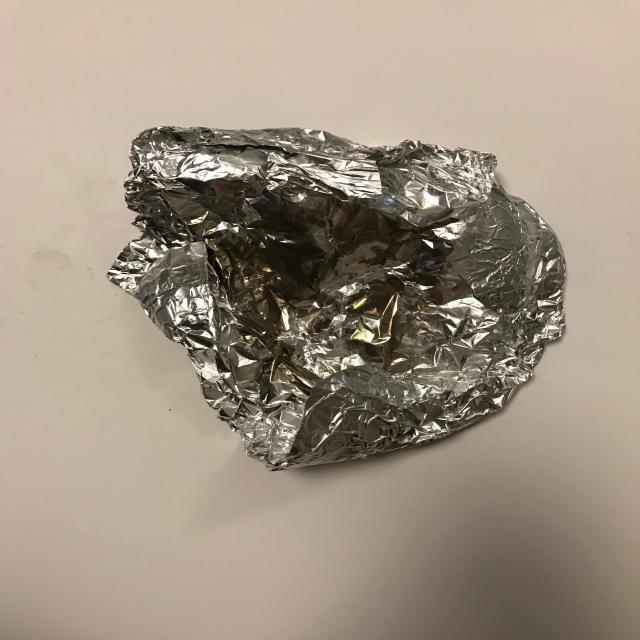metal: (106, 125, 569, 471)
